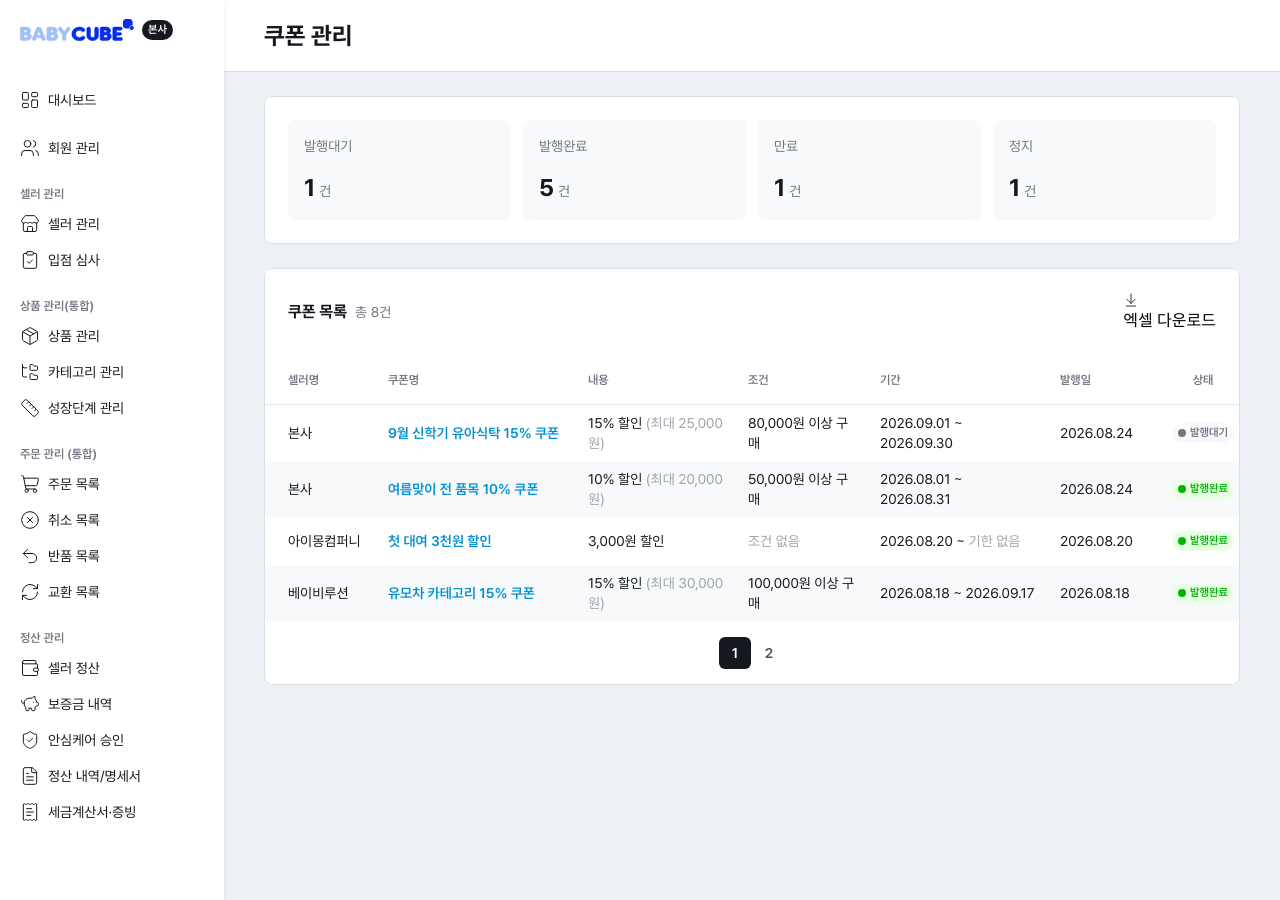
Scenario: CouponListPage › 상태 대시 — 이 화면의 유일한 필터 (원본 StatDash) › 누르면 그 상태로 좁혀지고 aria-pressed 가 켜진다
Click the button "만료 1 건": (870, 170) x1=758 y1=120 x2=981 y2=220
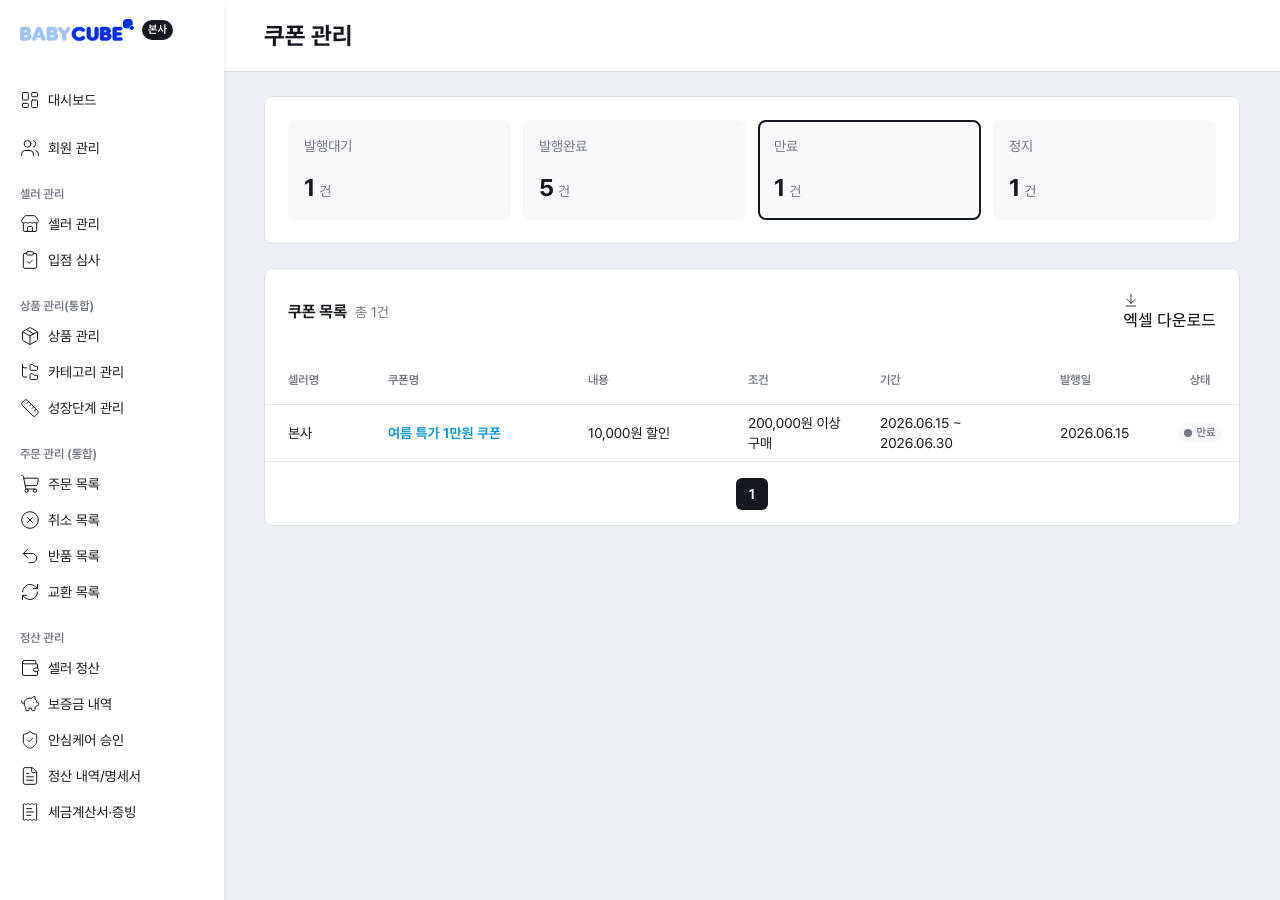
Check: the text "총 1건" is shown, box x1=355 y1=302 x2=389 y2=322
